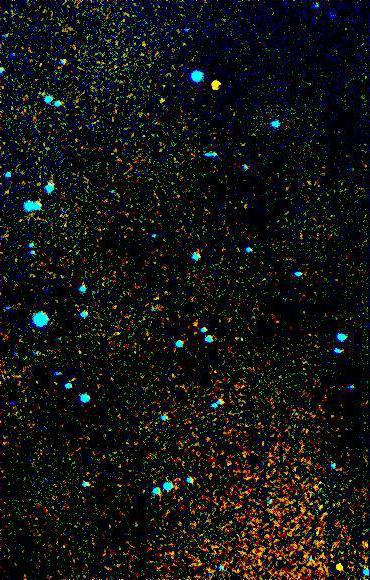star: (203, 78, 233, 108)
